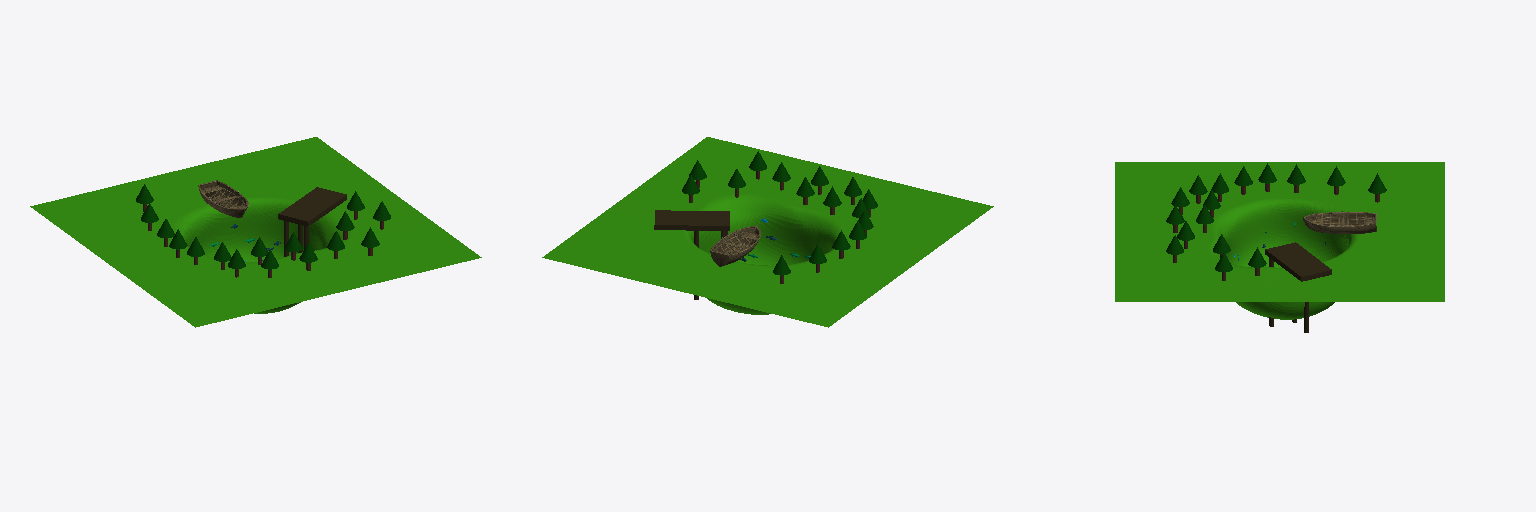
3 renders of one model, left to right at view 1: azimuth 30°, elevation 25°; view 2: azimuth 150°, elevation 25°; view 3: azimuth 270°, elevation 25°, orthographic.
Visible parts, largest first — view 1: Plane, Cube, Wooden boat; view 2: Plane, Cube, Wooden boat; view 3: Plane, Wooden boat, Cube.
Boxes of the visible parts, <box> form: Plane: <box>30,137,481,327</box>; Cube: <box>278,187,346,226</box>; Wooden boat: <box>198,180,248,217</box>; Plane: <box>542,137,993,327</box>; Cube: <box>654,210,729,230</box>; Wooden boat: <box>710,225,760,266</box>; Plane: <box>1115,162,1444,319</box>; Wooden boat: <box>1303,211,1376,233</box>; Cube: <box>1265,242,1331,281</box>.
Bounding box in the file's own units: 189 × 65.47 × 189.
8 materials, 8 textured.